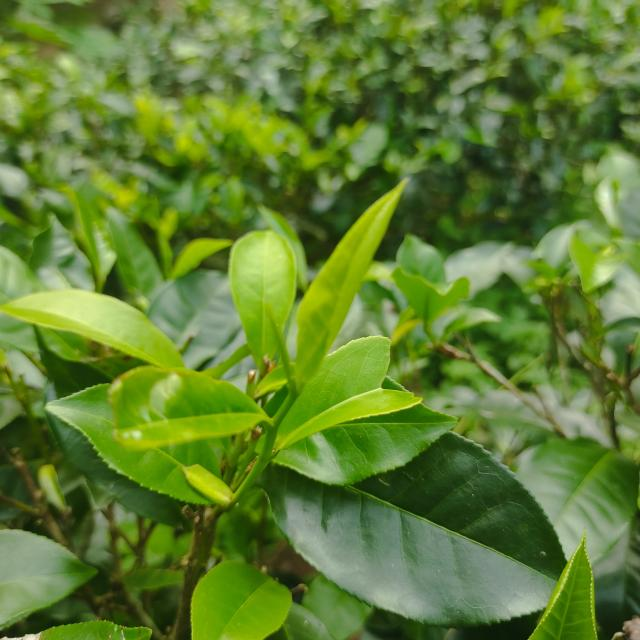unopened_leaf: (261, 293, 303, 407), (154, 220, 177, 278)
